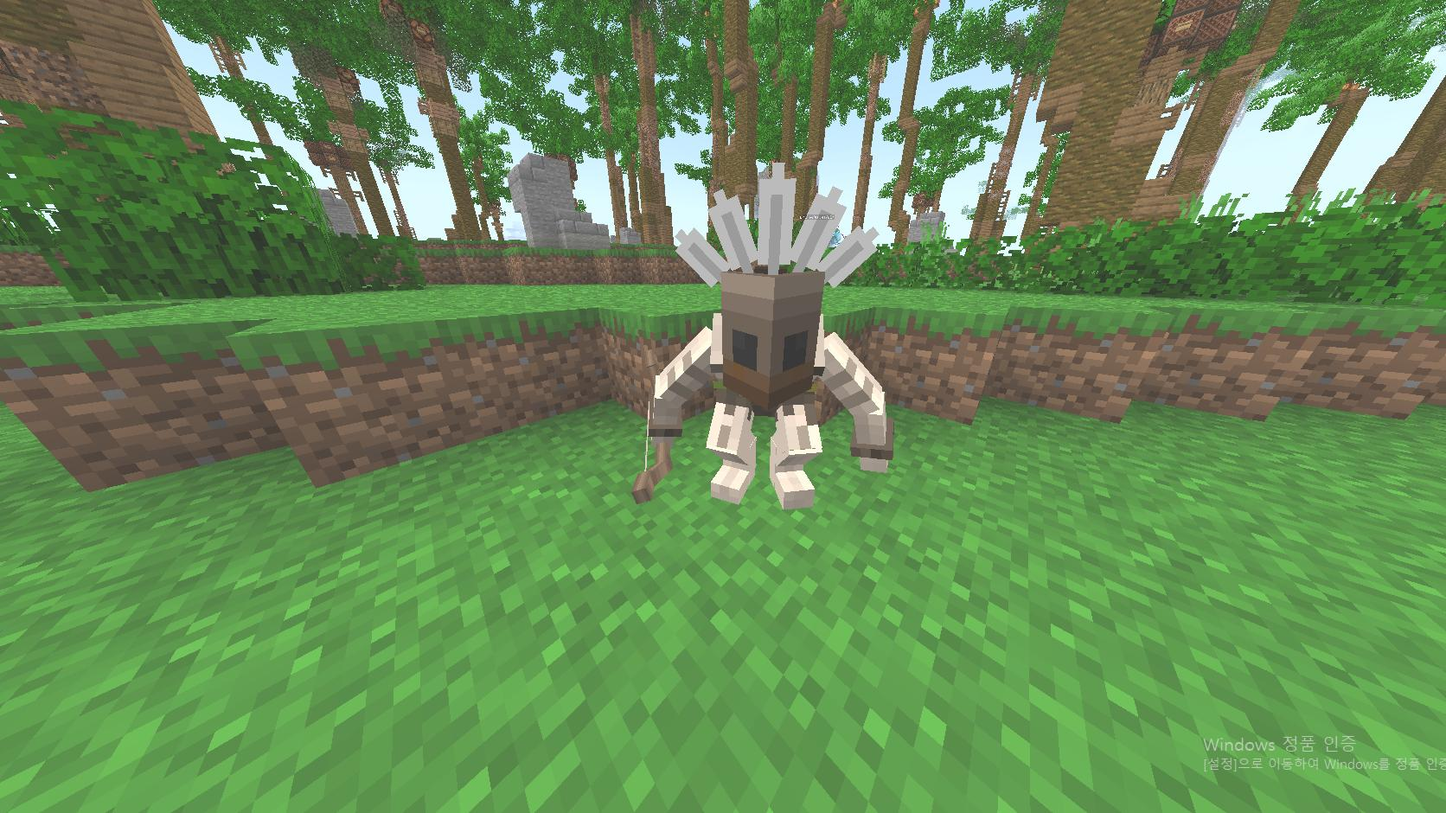bow_indian: (601, 169, 945, 563)
